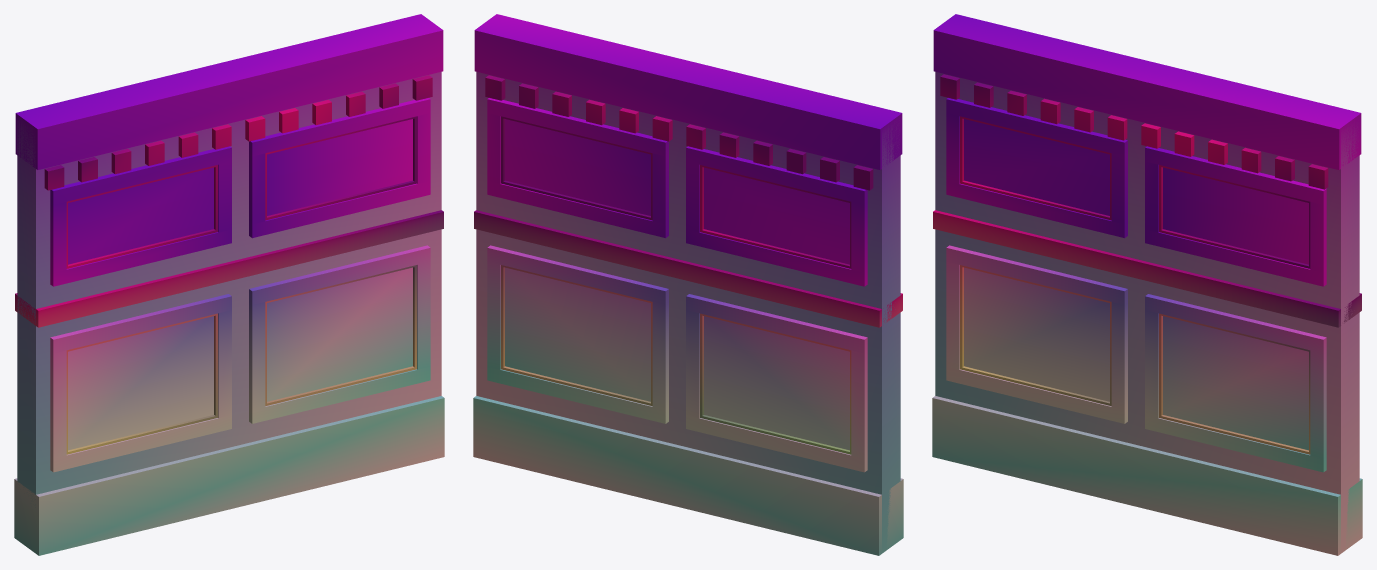
The model's file is palace_wall_4x4.glb.
3 renders of one model, left to right at view 1: azimuth 30°, elevation 25°; view 2: azimuth 150°, elevation 25°; view 3: azimuth 330°, elevation 25°, orthographic.
Visible parts, largest first — view 1: palace_wall, palace_wall_panels, palace_wall_gild; view 2: palace_wall, palace_wall_panels, palace_wall_gild; view 3: palace_wall, palace_wall_panels, palace_wall_gild.
Boxes of the visible parts, x1=… form: palace_wall: x1=14, y1=14, x2=444, y2=555; palace_wall_panels: x1=68, y1=119, x2=412, y2=450; palace_wall_gild: x1=15, y1=75, x2=443, y2=454; palace_wall: x1=473, y1=14, x2=903, y2=555; palace_wall_panels: x1=505, y1=119, x2=849, y2=450; palace_wall_gild: x1=474, y1=75, x2=902, y2=454; palace_wall: x1=932, y1=14, x2=1362, y2=555; palace_wall_panels: x1=964, y1=119, x2=1308, y2=450; palace_wall_gild: x1=933, y1=74, x2=1361, y2=454.
Bounding box in the file's own units: 4 × 4.01 × 0.44.
